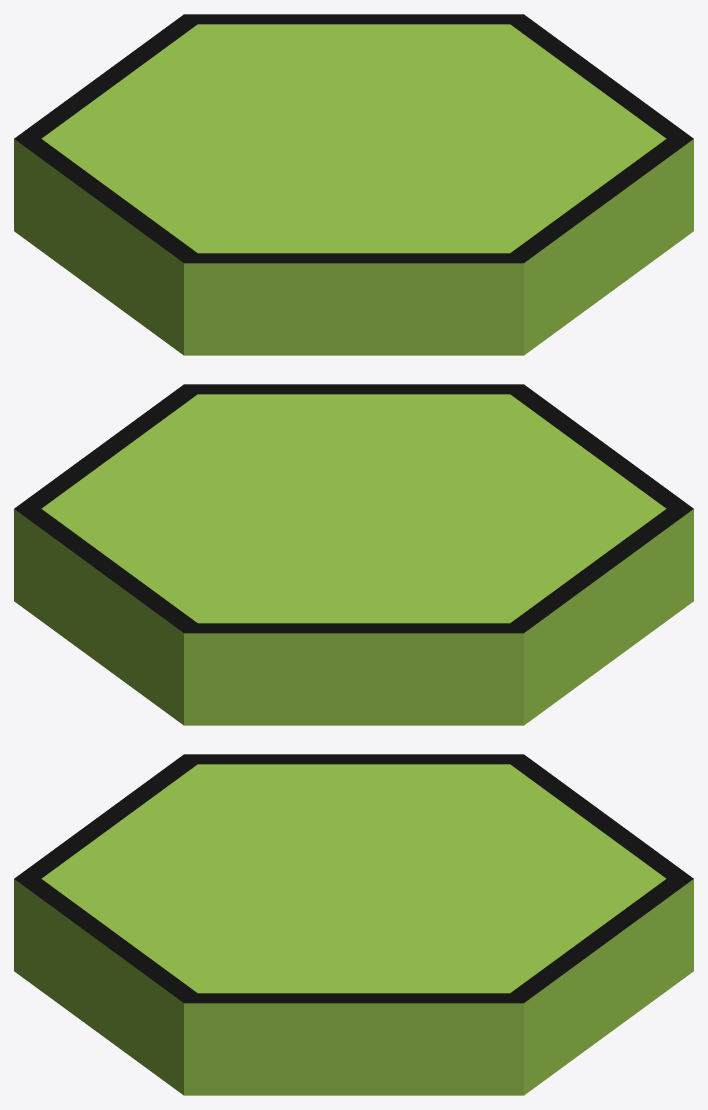
The model's file is 12tile.glb.
3 views of the same model, one above another, from view 1: azimuth 30°, elevation 25°; view 2: azimuth 150°, elevation 25°; view 3: azimuth 270°, elevation 25° (orthographic).
Parts seen in each view (by area): view 1: VaromaTile; view 2: VaromaTile; view 3: VaromaTile.
Boxes of the visible parts, bbox=[...] form: VaromaTile: bbox=[14, 14, 693, 355]; VaromaTile: bbox=[14, 384, 693, 725]; VaromaTile: bbox=[14, 754, 693, 1095].
Size of the model in its own units: 1.73 by 0.3 by 2.
1 material, 1 textured.
